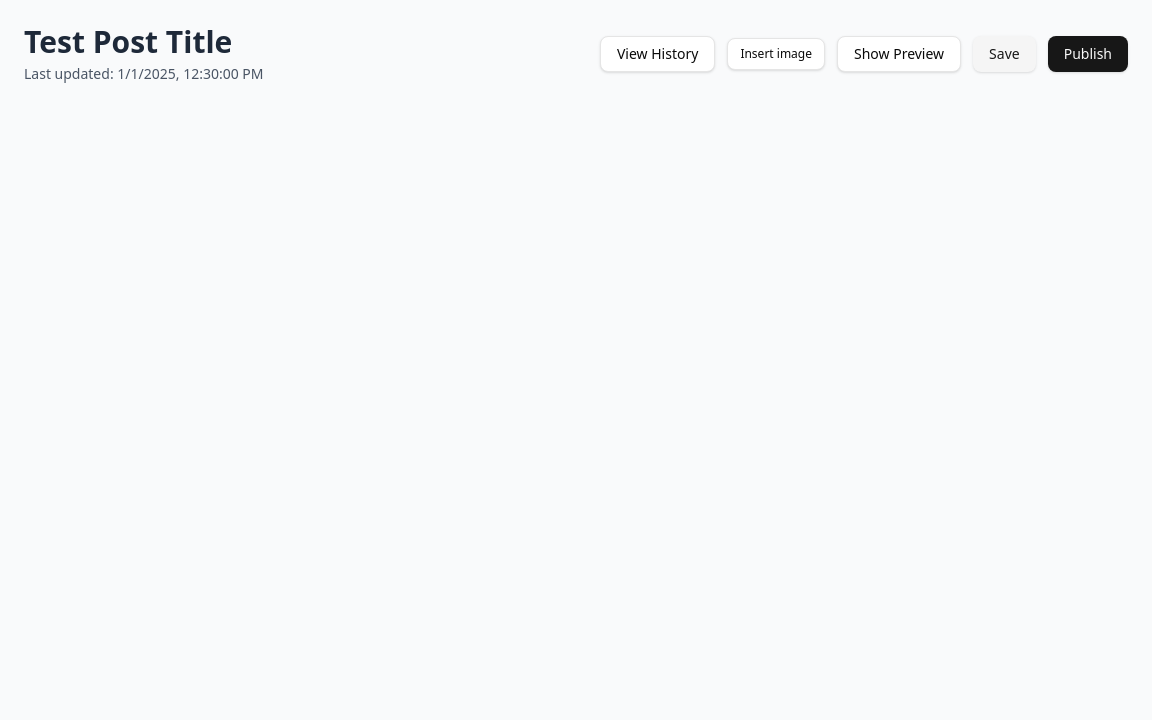
it: PostEditor Component › shows AlertDialog when Publish button clicked
What coordinates should you click on to do the following:
click the button "Publish"
I would click on:
 (1088, 54)
Its box is x1=1048 y1=36 x2=1128 y2=72.
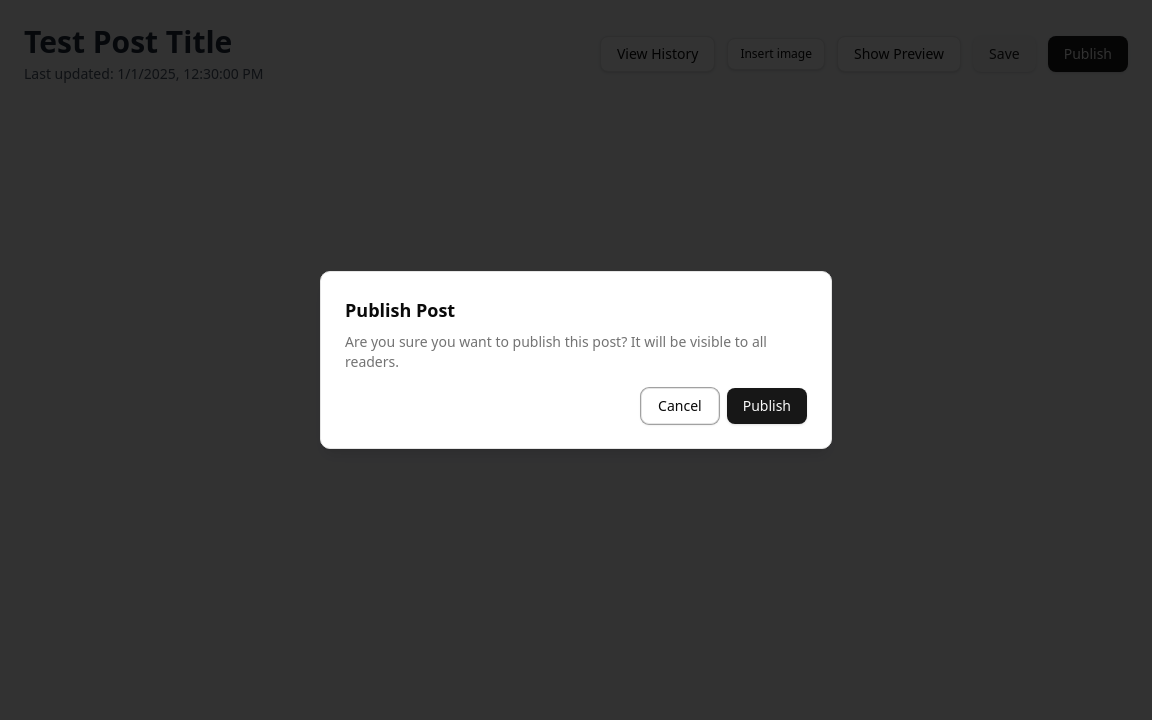
Expected: the text "Are you sure you want to publish" is shown, x1=345 y1=332 x2=767 y2=371
Expected: the button "Cancel" is shown, x1=641 y1=388 x2=719 y2=424
